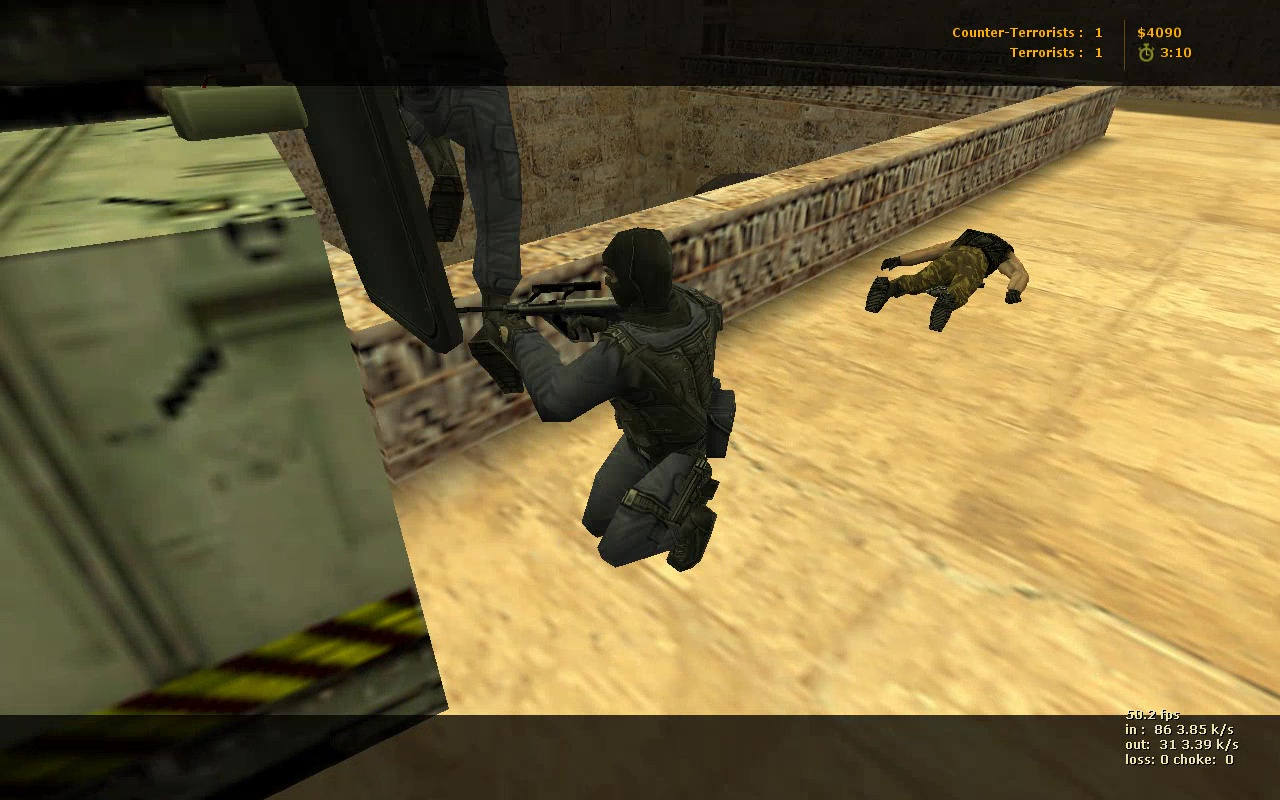ct: (508, 228, 739, 577)
